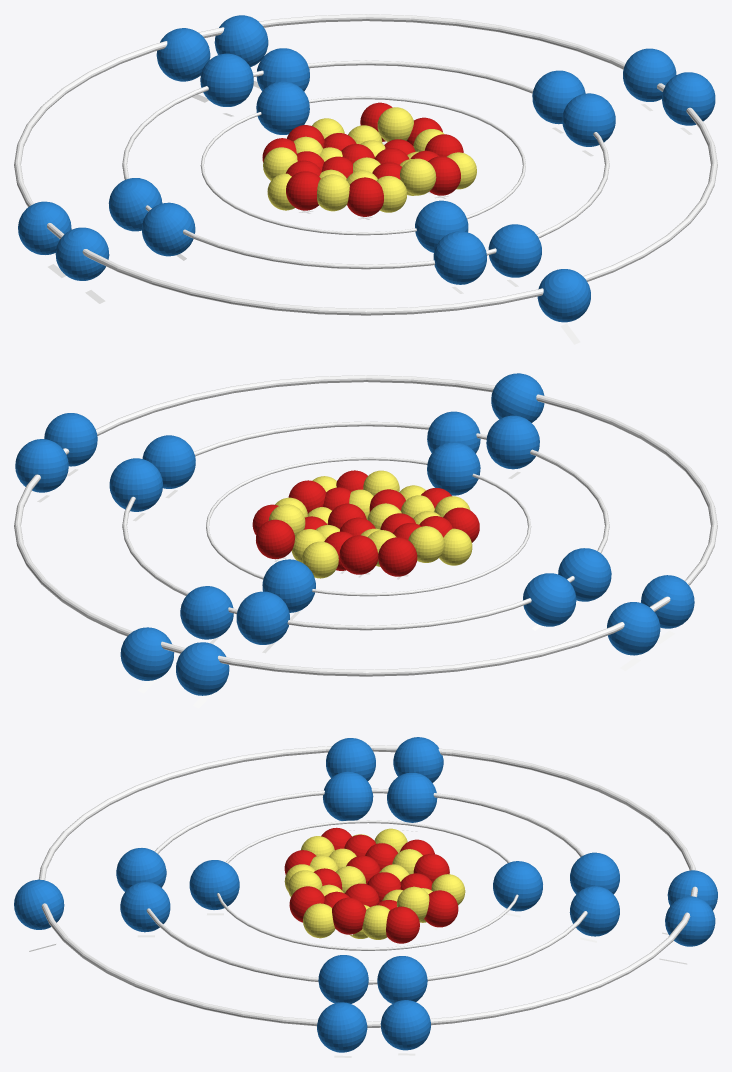
3 views of the same model, one above another, from view 1: azimuth 30°, elevation 25°; view 2: azimuth 150°, elevation 25°; view 3: azimuth 270°, elevation 25° (orthographic). The views are drawn at different scales.
Visible parts, largest first — view 1: Torus.003, Torus.002, Torus.001, -.008, -.004, -.005, -.013, -.002, -.001, -.003, -.016, -.015 (+19 smaller); view 2: Torus.003, Torus.002, Torus.001, -.004, -.009, -.008, -.006, -.007, -.016, -, -.012, -.010 (+20 smaller); view 3: Torus.003, Torus.002, Torus.001, -.015, -.010, -.006, -.003, -.002, -, -.001, -.009, -.005 (+21 smaller).
Part boxes in pixels (bbox=[...]): Torus.003: bbox=[14, 14, 717, 315]; Torus.002: bbox=[122, 60, 609, 269]; Torus.001: bbox=[200, 96, 525, 235]; -.008: bbox=[433, 231, 486, 284]; -.004: bbox=[200, 53, 253, 106]; -.005: bbox=[488, 224, 541, 277]; -.013: bbox=[537, 269, 590, 322]; -.002: bbox=[562, 93, 615, 146]; -.001: bbox=[256, 81, 309, 134]; -.003: bbox=[142, 202, 195, 256]; -.016: bbox=[156, 28, 210, 81]; -.015: bbox=[662, 72, 715, 125]; Torus.003: bbox=[14, 375, 717, 676]; Torus.002: bbox=[122, 421, 609, 630]; Torus.001: bbox=[206, 457, 531, 596]; -.004: bbox=[236, 591, 289, 644]; -.009: bbox=[180, 586, 233, 639]; -.008: bbox=[486, 415, 539, 469]; -.006: bbox=[523, 573, 576, 626]; -.007: bbox=[109, 458, 162, 511]; -.016: bbox=[176, 642, 229, 695]; -: bbox=[427, 442, 480, 495]; -.012: bbox=[120, 627, 174, 680]; -.010: bbox=[15, 439, 68, 492]; Torus.003: bbox=[38, 745, 697, 1027]; Torus.002: bbox=[146, 788, 587, 984]; Torus.001: bbox=[217, 820, 518, 950]; -.015: bbox=[317, 1002, 367, 1052]; -.010: bbox=[380, 1000, 430, 1050]; -.006: bbox=[387, 772, 437, 822]; -.003: bbox=[323, 771, 373, 820]; -.002: bbox=[318, 955, 368, 1003]; -: bbox=[189, 860, 239, 909]; -.001: bbox=[493, 861, 542, 911]; -.009: bbox=[569, 886, 619, 936]; -.005: bbox=[120, 882, 170, 932].
Size of the model in its own units: 6.51 by 0.7994 by 6.51.
